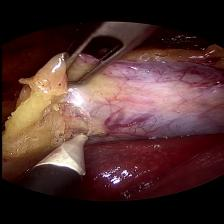Grasper: (52, 20, 160, 90)
Hook: (38, 129, 108, 175)
